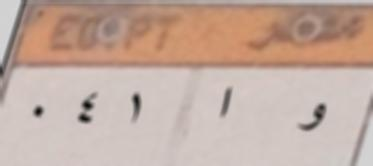0: (27, 98, 53, 129)
1: (127, 90, 149, 128)
4: (69, 89, 104, 134)
alif: (211, 80, 240, 128)
waw: (294, 93, 329, 136)
